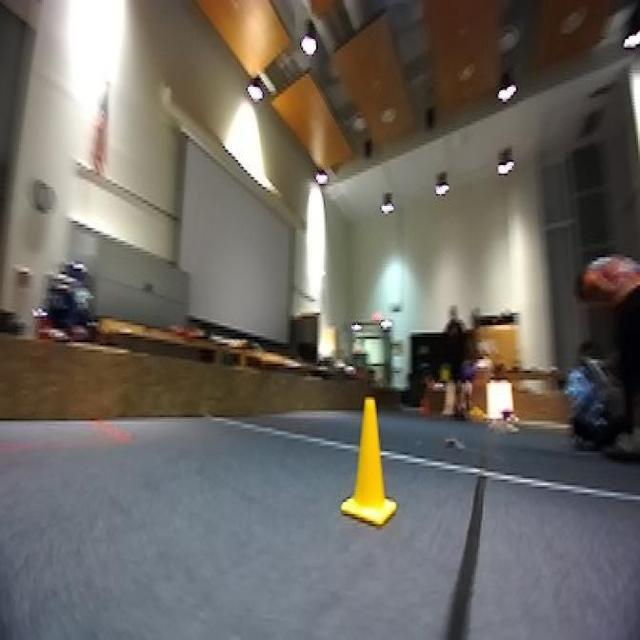frc_cone: (344, 402, 401, 531)
